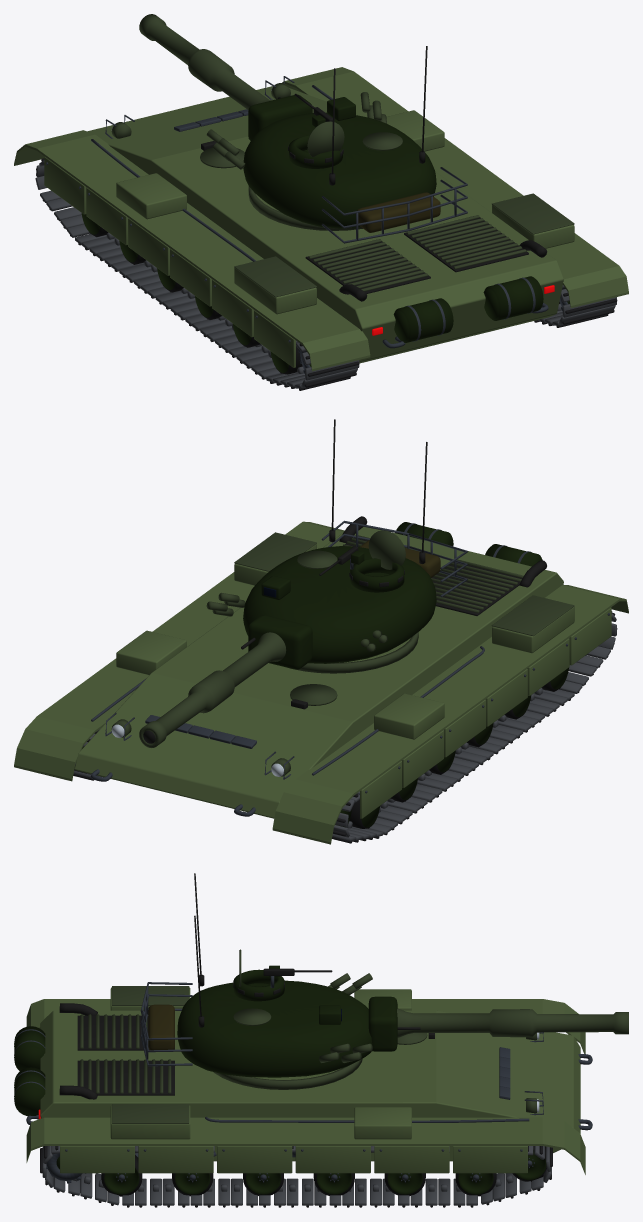
The model's file is Tank.fbx.
The picture shows the model from 3 angles, top to bottom: view 1: azimuth 30°, elevation 25°; view 2: azimuth 150°, elevation 25°; view 3: azimuth 270°, elevation 25°; orthographic projection. The views are drawn at different scales.
Parts seen in each view (by area): view 1: Tank_Body, Tank_Turret, Tank_Trim3, Tank_Trim, Tank_Trim4, Tank_Trim2; view 2: Tank_Body, Tank_Turret, Tank_Trim3, Tank_Trim, Tank_Trim4, Tank_Trim2; view 3: Tank_Body, Tank_Turret, Tank_Trim3, Tank_Trim2, Tank_Trim4.
Part boxes in pixels (bbox=[...]): Tank_Body: bbox=[14, 67, 628, 371]; Tank_Turret: bbox=[139, 14, 467, 243]; Tank_Trim3: bbox=[46, 80, 574, 374]; Tank_Trim: bbox=[35, 158, 359, 390]; Tank_Trim4: bbox=[283, 76, 526, 291]; Tank_Trim2: bbox=[81, 213, 617, 373]; Tank_Body: bbox=[14, 521, 628, 844]; Tank_Turret: bbox=[139, 419, 467, 747]; Tank_Trim3: bbox=[82, 516, 609, 827]; Tank_Trim: bbox=[332, 611, 617, 843]; Tank_Trim4: bbox=[105, 535, 523, 736]; Tank_Trim2: bbox=[73, 654, 587, 828]; Tank_Body: bbox=[26, 987, 585, 1174]; Tank_Turret: bbox=[140, 873, 628, 1089]; Tank_Trim3: bbox=[14, 986, 592, 1196]; Tank_Trim2: bbox=[40, 1146, 552, 1207]; Tank_Trim4: bbox=[80, 1014, 543, 1157].
Bounding box in the file's own units: 15.68 × 12.08 × 27.77.
